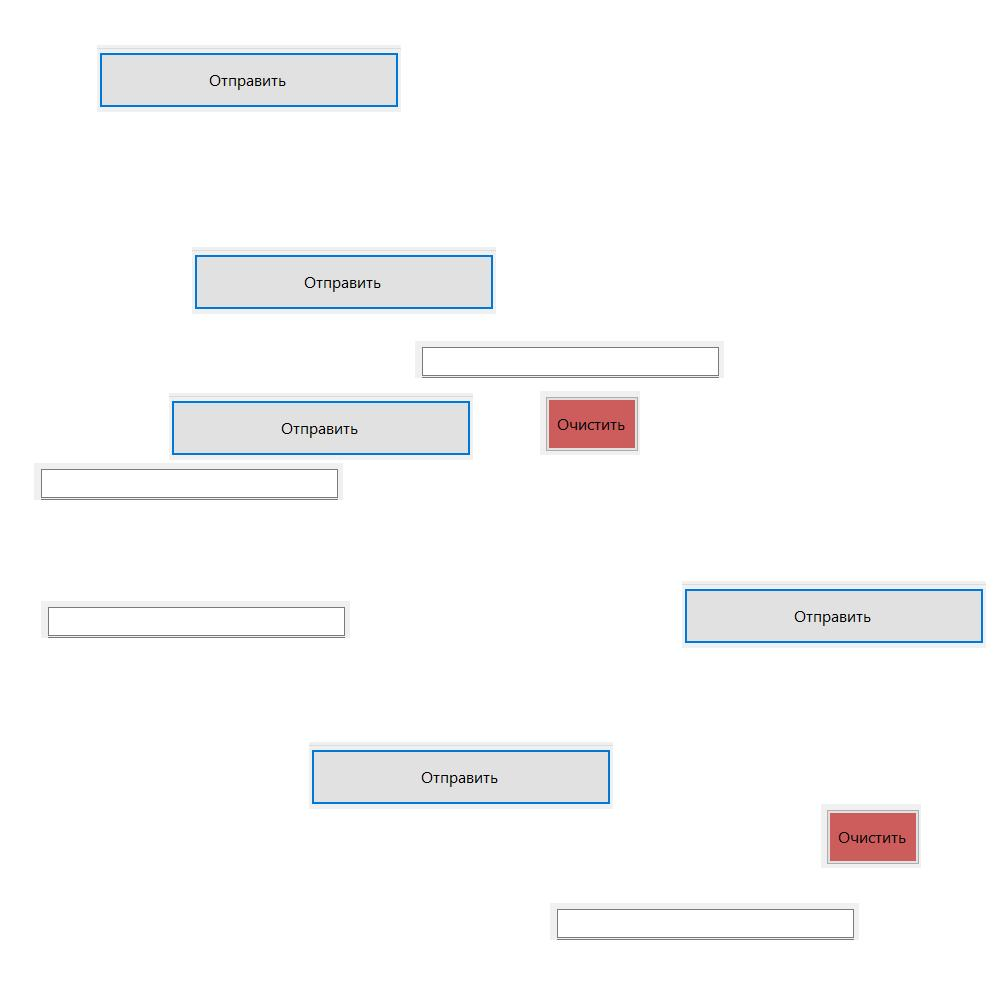Button: (97, 45, 401, 112), (192, 247, 496, 314), (682, 581, 986, 648), (169, 393, 473, 460), (309, 742, 613, 809), (540, 391, 640, 455), (821, 804, 921, 868)
EditText-: (41, 601, 350, 638), (34, 463, 343, 500), (550, 903, 859, 940), (415, 341, 724, 378)
